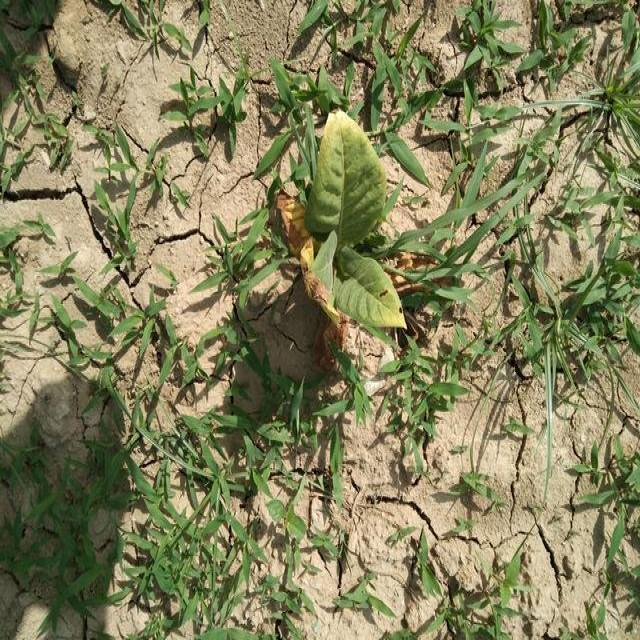crop: (304, 96, 412, 344)
